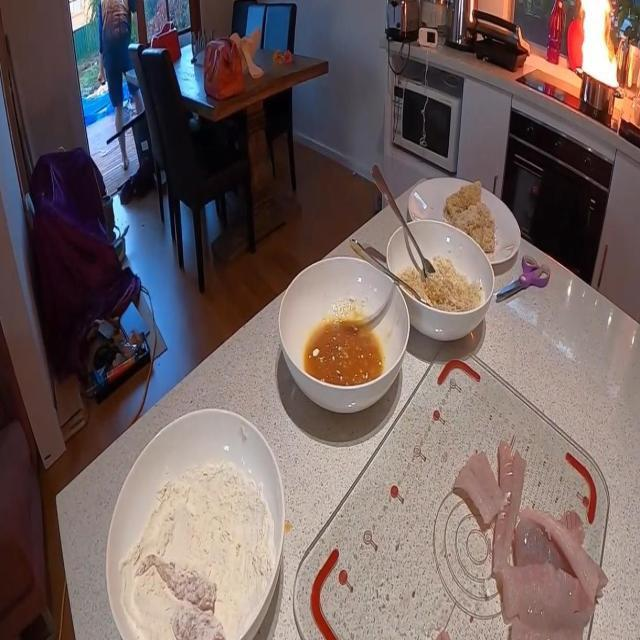smoke: (576, 0, 624, 89)
